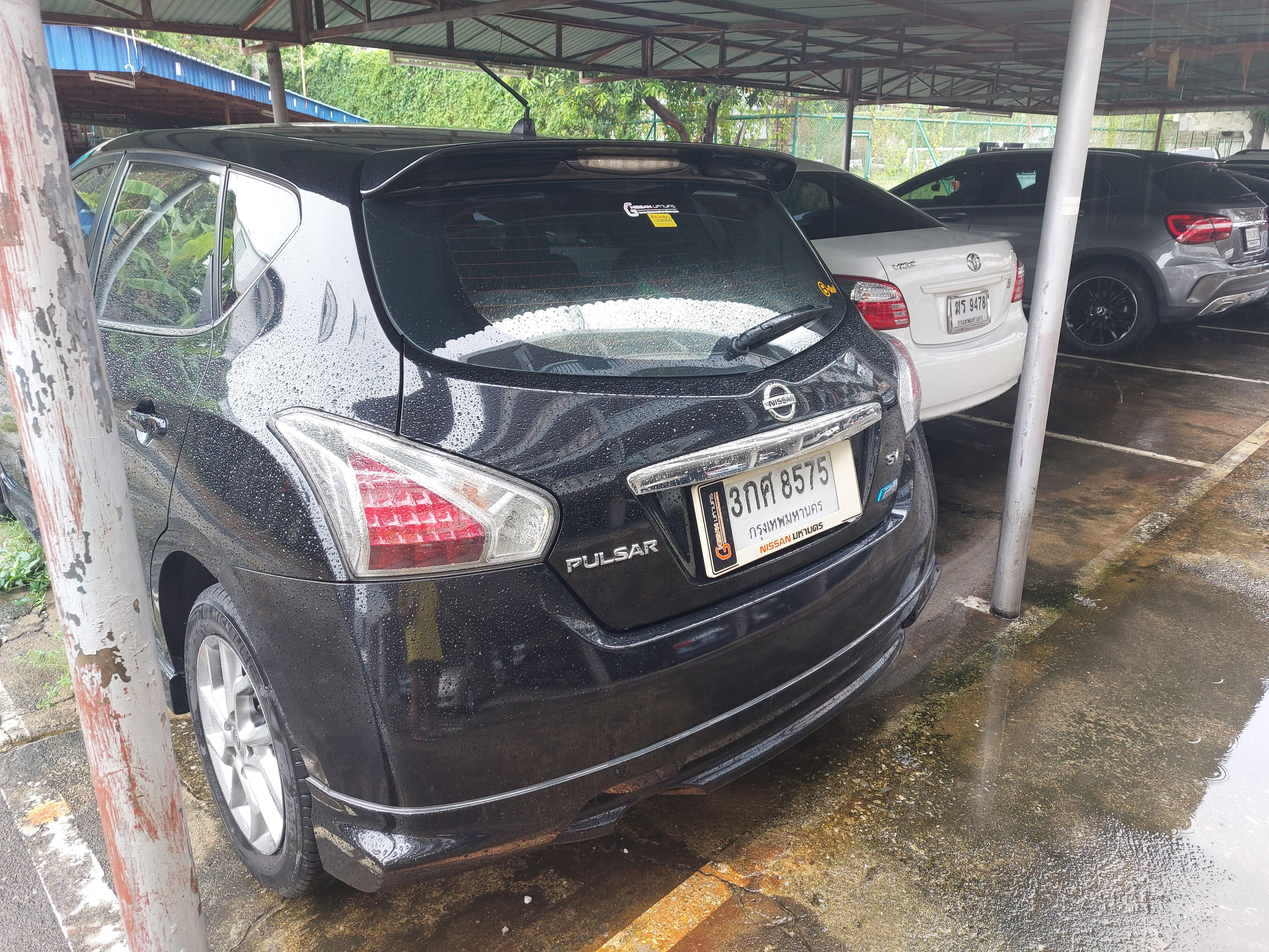license-plate: (690, 435, 864, 582), (942, 283, 997, 337), (1242, 226, 1266, 256)
